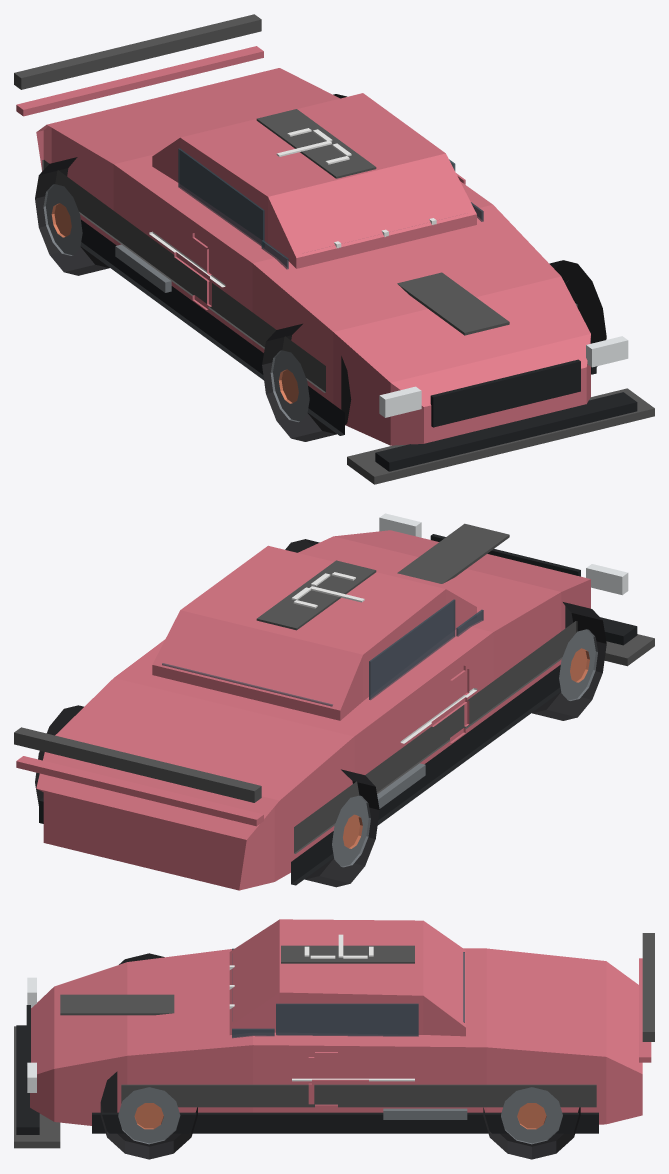
File: web_stock_car_03.gltf
The picture shows the model from 3 angles, top to bottom: view 1: azimuth 30°, elevation 25°; view 2: azimuth 150°, elevation 25°; view 3: azimuth 270°, elevation 25°; orthographic projection. The views are drawn at different scales.
Visible parts, largest first — view 1: WebStockCar_03; view 2: WebStockCar_03; view 3: WebStockCar_03.
Boxes of the visible parts, x1=… form: WebStockCar_03: x1=14, y1=14, x2=654, y2=484; WebStockCar_03: x1=14, y1=513, x2=654, y2=890; WebStockCar_03: x1=14, y1=919, x2=654, y2=1159.
Size of the model in its own units: 2.35 by 1.34 by 5.26.
